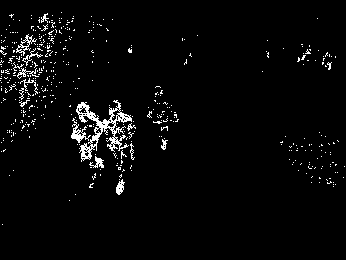person: (99, 98, 137, 197), (71, 101, 106, 190), (146, 84, 179, 153)
